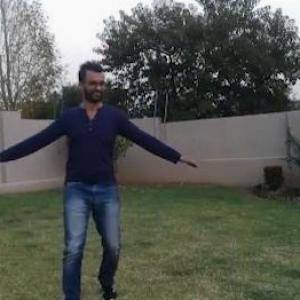land: (1, 50, 199, 299)
